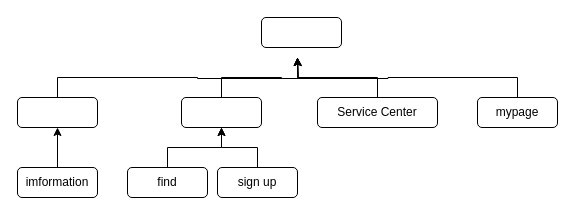
The diagram is 575 pixels wide and 215 high, and some of its shapes have lost their labels. Each missing label, with the centre of its shape:
index: (301,32)
login: (221,112)
search: (57,112)
